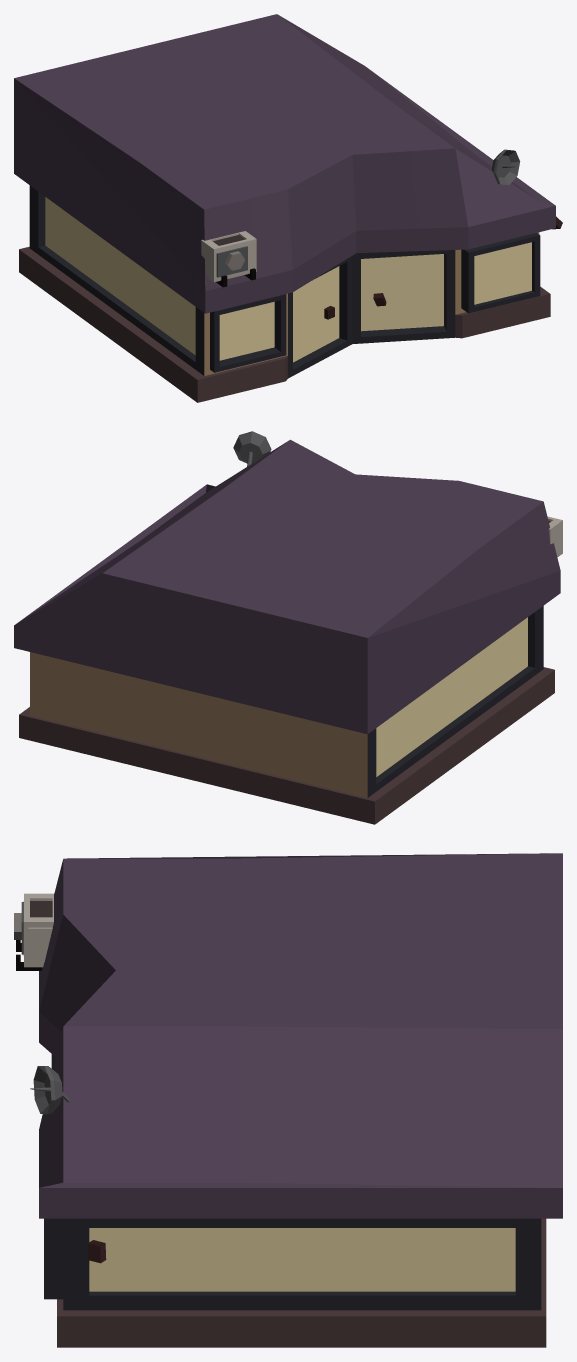
The model's file is StoreB.fbx.
3 renders of one model, top to bottom at view 1: azimuth 30°, elevation 25°; view 2: azimuth 150°, elevation 25°; view 3: azimuth 270°, elevation 25°, orthographic. The views are drawn at different scales.
Visible parts, largest first — view 1: Cube.330; view 2: Cube.330; view 3: Cube.330.
Boxes of the visible parts, left/top/right/bottom form: Cube.330: left=14, top=14, right=562, bottom=402; Cube.330: left=14, top=431, right=562, bottom=824; Cube.330: left=14, top=853, right=562, bottom=1347.
Size of the model in its own units: 5.28 by 2.5 by 4.8.
